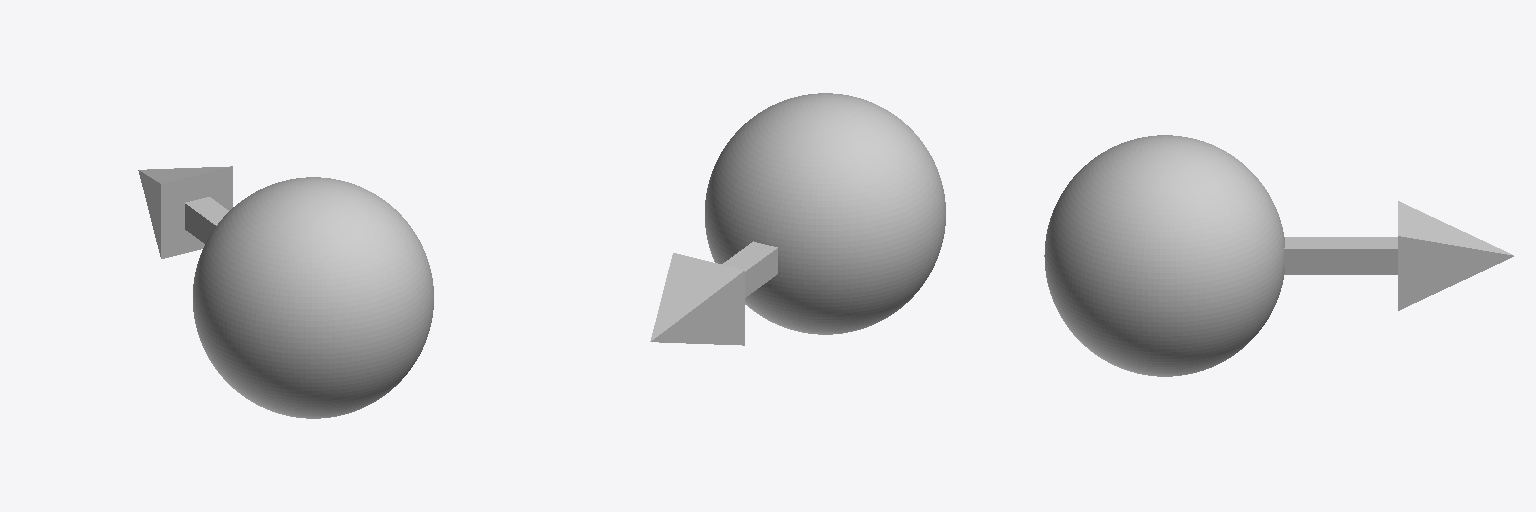
The model's file is monkeyBall.obj.
3 views of the same model, side by side, from view 1: azimuth 30°, elevation 25°; view 2: azimuth 150°, elevation 25°; view 3: azimuth 270°, elevation 25° (orthographic).
Parts seen in each view (by area): view 1: Sphere; view 2: Sphere; view 3: Sphere.
Boxes of the visible parts, box(x1,y1,x2,y2) form: Sphere: box(138, 166, 433, 418); Sphere: box(650, 93, 945, 345); Sphere: box(1044, 135, 1513, 376).
Bounding box in the file's own units: 1 × 1 × 1.95.